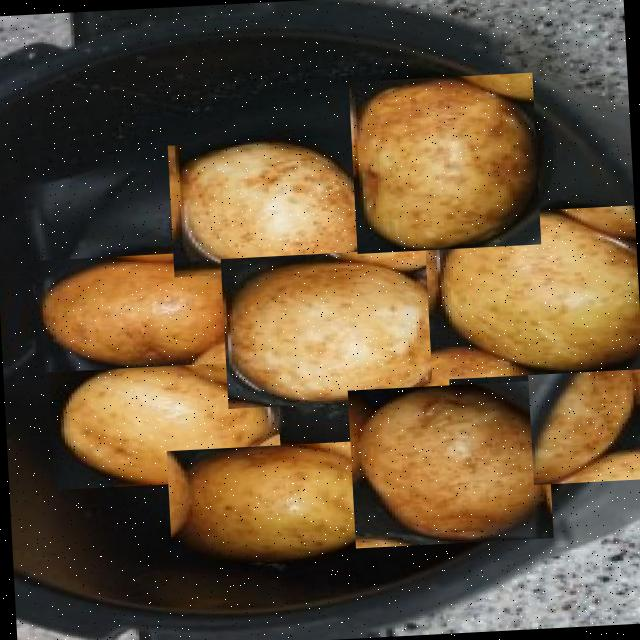Damaged potato: (525, 337, 640, 485)
Potato: (423, 205, 640, 380), (220, 248, 450, 409), (348, 73, 540, 254), (347, 381, 552, 548), (47, 354, 281, 490), (166, 136, 374, 278), (30, 250, 258, 372), (166, 440, 386, 565)
